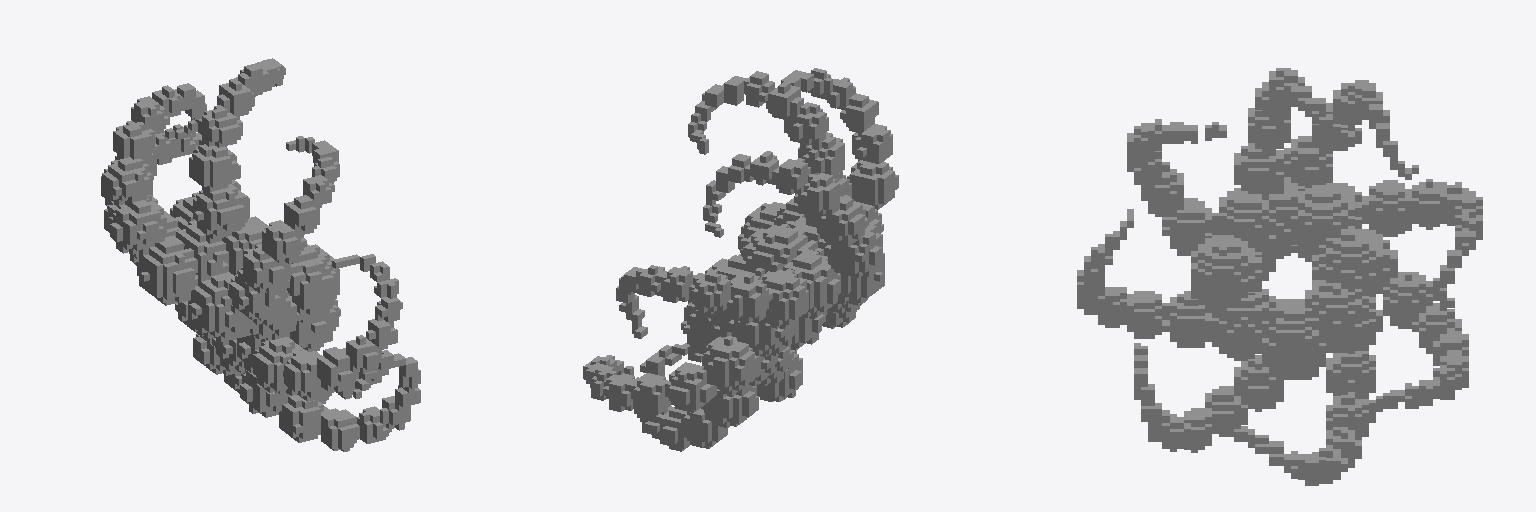
The model's file is fractal_3.obj.
The picture shows the model from 3 angles: view 1: azimuth 30°, elevation 25°; view 2: azimuth 150°, elevation 25°; view 3: azimuth 270°, elevation 25°; orthographic projection.
Parts seen in each view (by area): view 1: fractal_3_fractal_3_Sphere; view 2: fractal_3_fractal_3_Sphere; view 3: fractal_3_fractal_3_Sphere.
Boxes of the visible parts, x1,y1,x2,y2 form: fractal_3_fractal_3_Sphere: [101, 58, 420, 451]; fractal_3_fractal_3_Sphere: [583, 68, 898, 451]; fractal_3_fractal_3_Sphere: [1077, 68, 1482, 485].
Size of the model in its own units: 1 by 1.39 by 1.39.